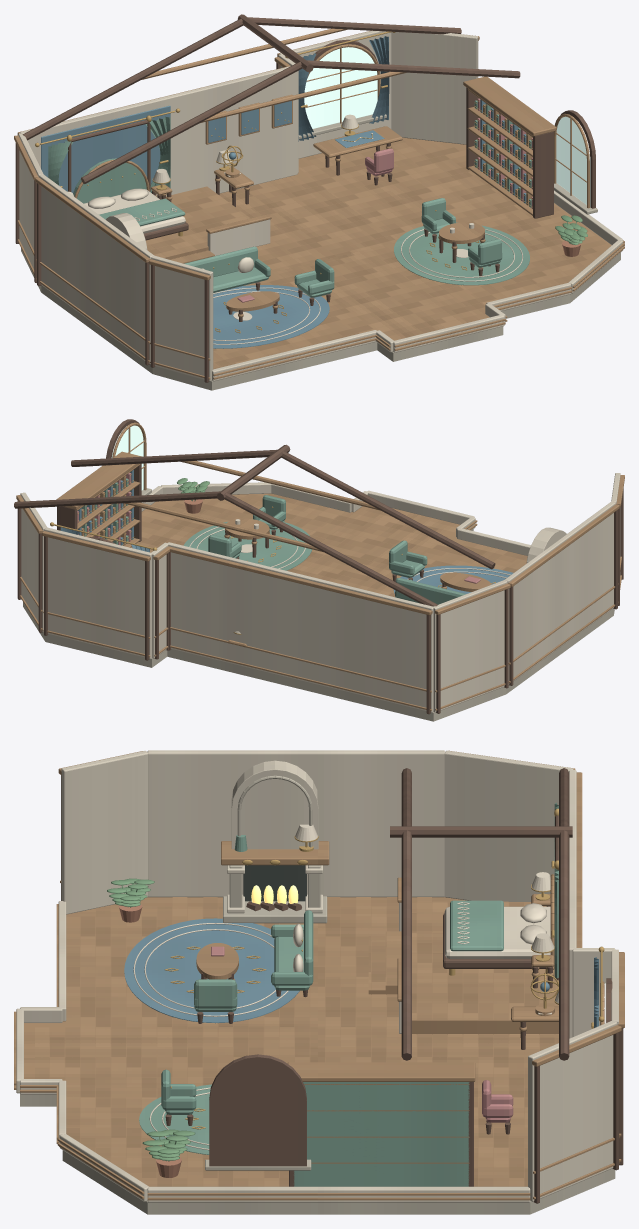
The model's file is neighbor1-interior.glb.
3 renders of one model, top to bottom at view 1: azimuth 30°, elevation 25°; view 2: azimuth 150°, elevation 25°; view 3: azimuth 270°, elevation 25°, orthographic. The views are drawn at different scales.
Parts seen in each view (by area): view 1: Forest hamlet; view 2: Forest hamlet; view 3: Forest hamlet.
Boxes of the visible parts, x1,y1,x2,y2 form: Forest hamlet: (14,14,624,390); Forest hamlet: (14,419,624,721); Forest hamlet: (14,750,624,1214).
Size of the model in its own units: 17.38 by 6.34 by 14.37.
18 materials, 18 textured.
